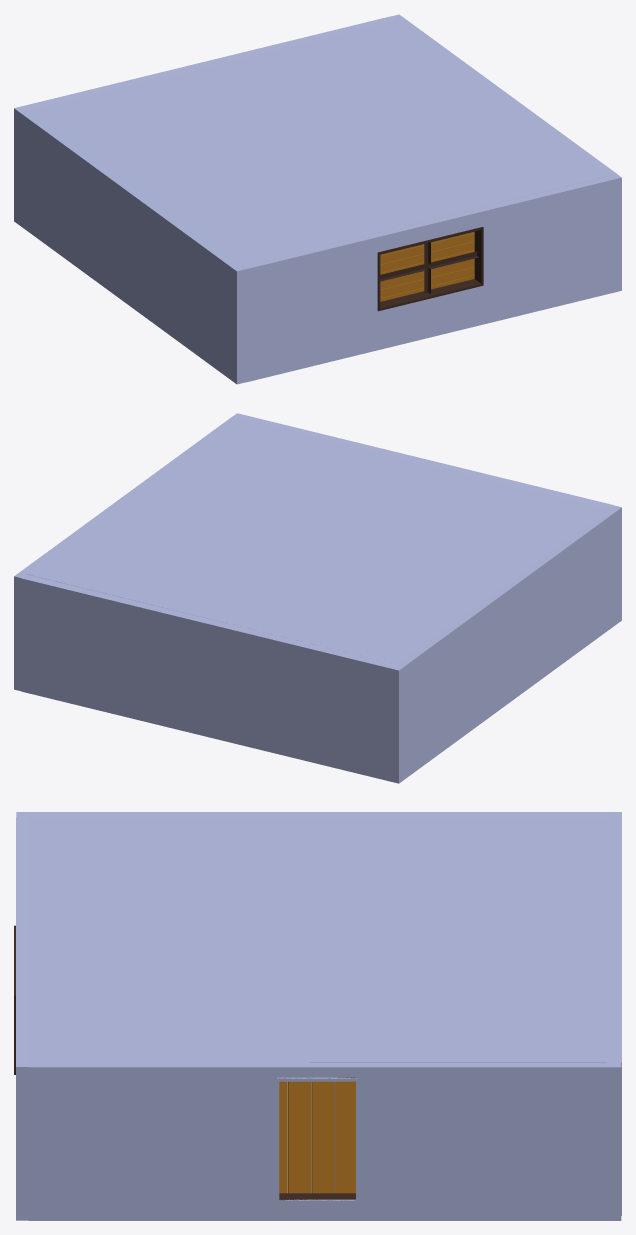
Rendered from DevRoomwithroof2.5.fbx.
The picture shows the model from 3 angles, top to bottom: view 1: azimuth 30°, elevation 25°; view 2: azimuth 150°, elevation 25°; view 3: azimuth 270°, elevation 25°; orthographic projection. The views are drawn at different scales.
Visible parts, largest first — view 1: Room, Woodfloor, Window; view 2: Room; view 3: Room, Woodfloor, Doorframe.
Boxes of the visible parts, x1,y1,x2,y2 form: Room: (14,14,621,384); Woodfloor: (380,231,474,301); Window: (377,227,483,311); Room: (14,413,621,783); Room: (16,812,621,1220); Woodfloor: (279,1081,355,1193); Doorframe: (279,1077,357,1200).
Size of the model in its own units: 1536 by 430 by 1540.
